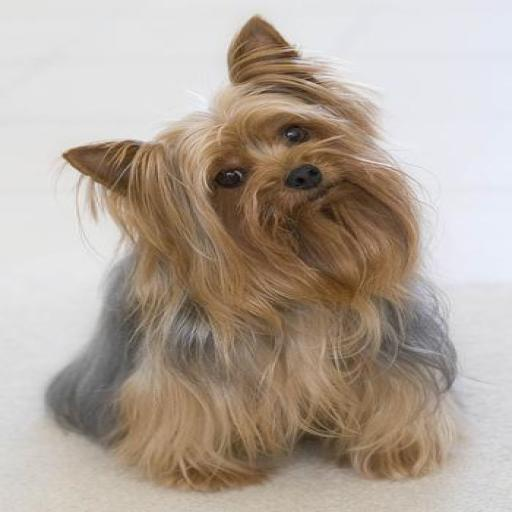dog_face: (64, 23, 418, 285)
